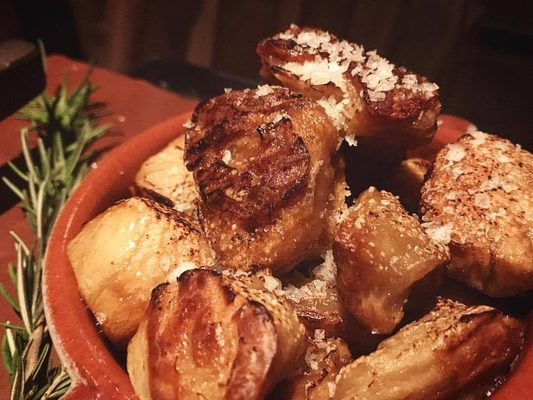salad: (255, 24, 445, 149), (418, 129, 533, 299)
